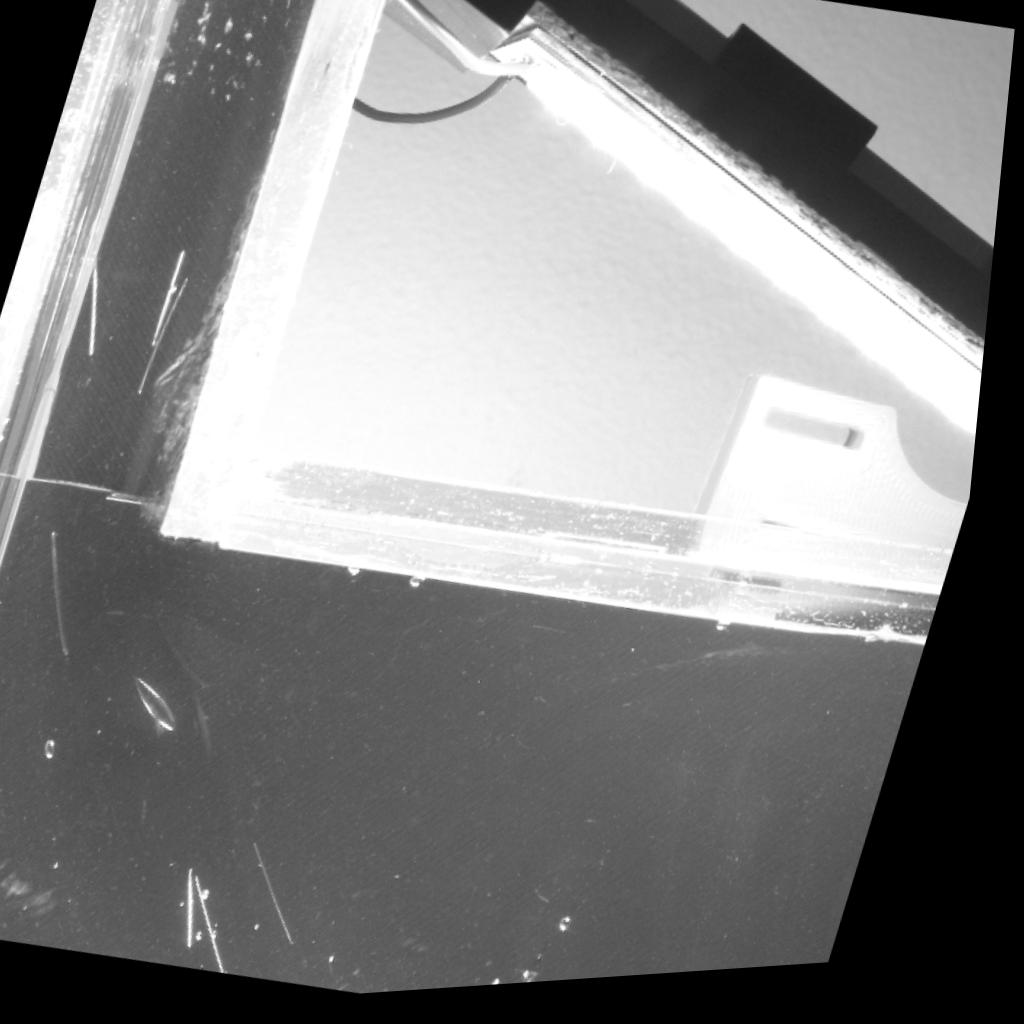Fiber: (146, 279, 194, 393), (265, 846, 314, 948), (210, 874, 244, 977), (157, 252, 192, 346), (60, 532, 84, 666), (93, 249, 107, 358), (204, 870, 214, 953), (533, 631, 582, 645)
